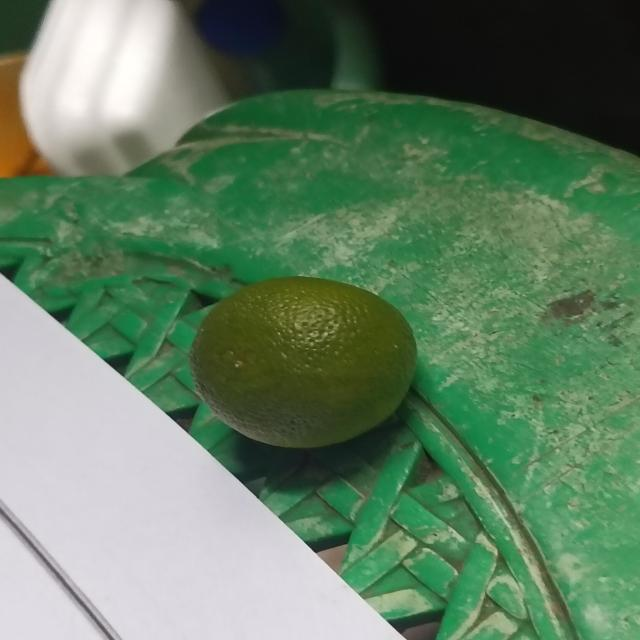heathy: (187, 273, 424, 450)
